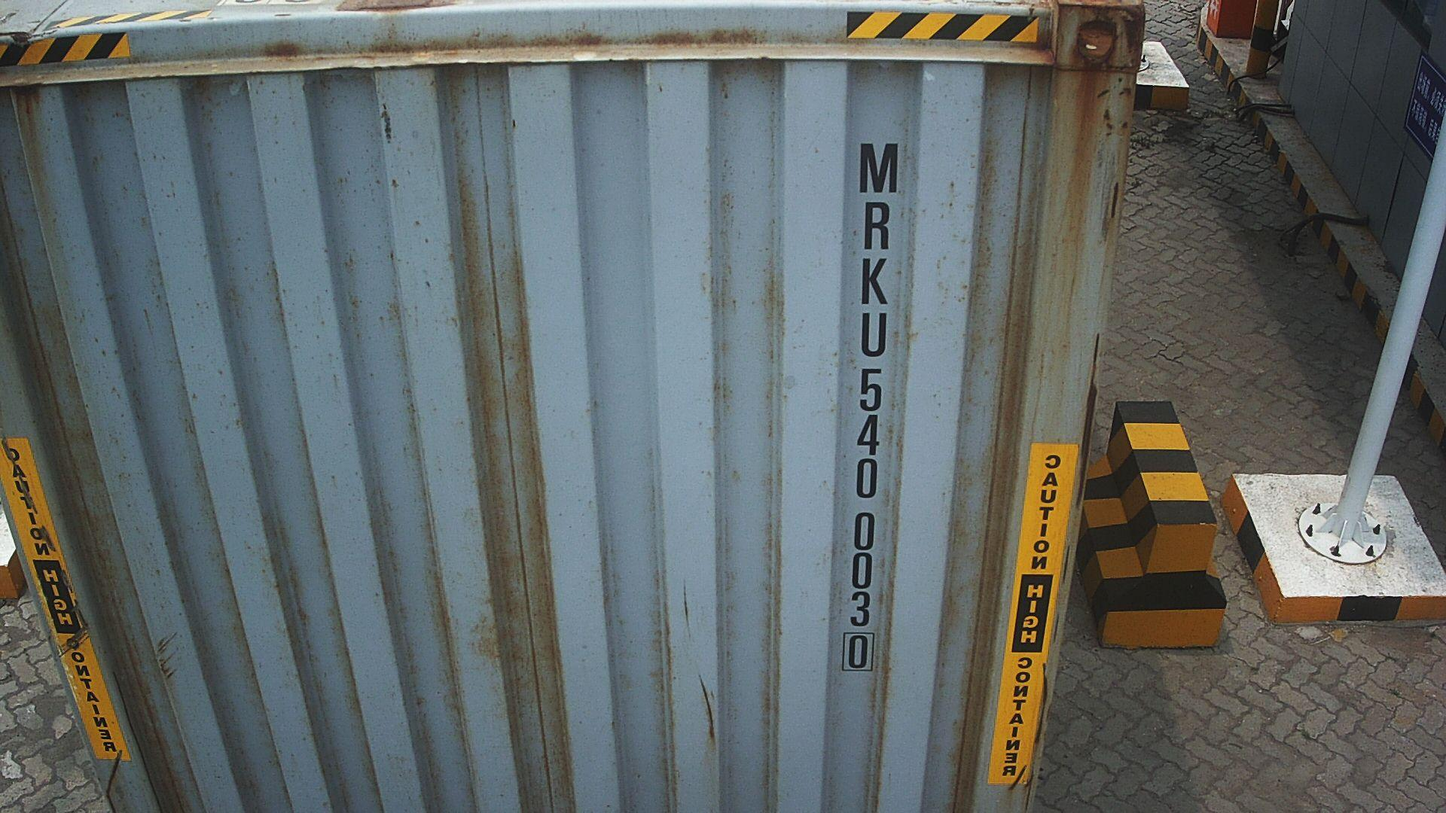container-numbers: (829, 132, 913, 674)
